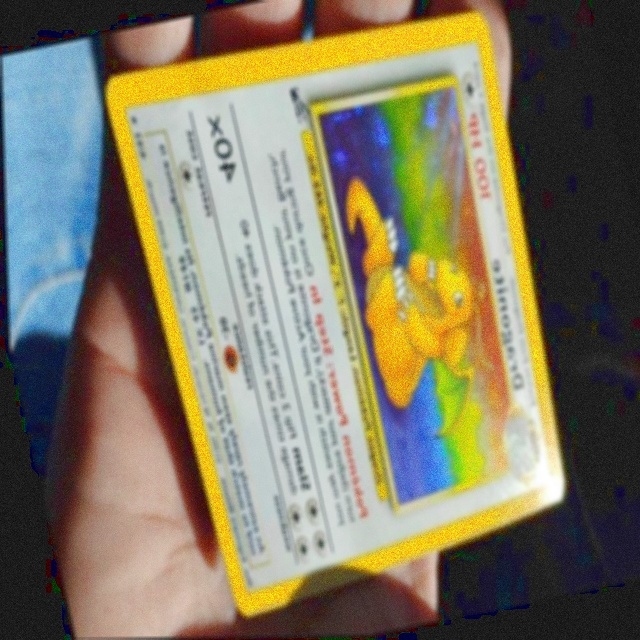card: (104, 8, 562, 624)
